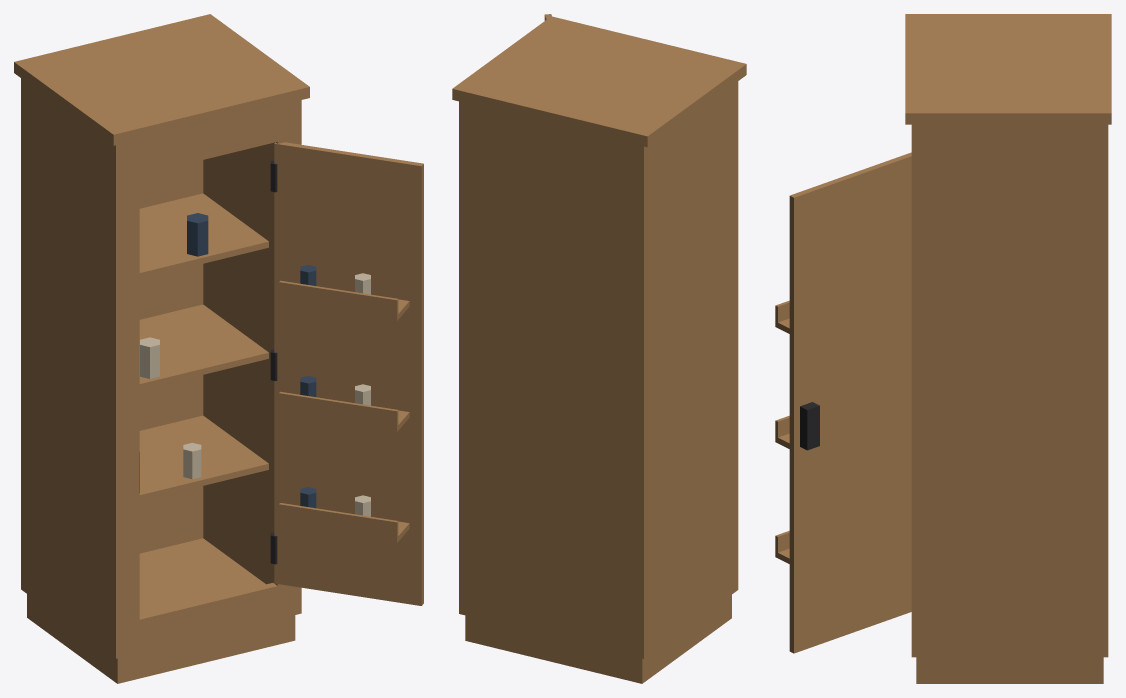
The model's file is FN_Cabinet_Larder.glb.
3 views of the same model, side by side, from view 1: azimuth 30°, elevation 25°; view 2: azimuth 150°, elevation 25°; view 3: azimuth 270°, elevation 25° (orthographic). The views are drawn at different scales.
Visible parts, largest first — view 1: FN_Cabinet_Larder; view 2: FN_Cabinet_Larder; view 3: FN_Cabinet_Larder.
Part boxes in pixels (left/top/right/bottom): FN_Cabinet_Larder: left=14, top=14, right=423, bottom=683; FN_Cabinet_Larder: left=452, top=14, right=746, bottom=683; FN_Cabinet_Larder: left=775, top=14, right=1111, bottom=683.
Bounding box in the file's own units: 0.9805 × 2 × 1.06.
Materials: 1 (1 with a texture image).
